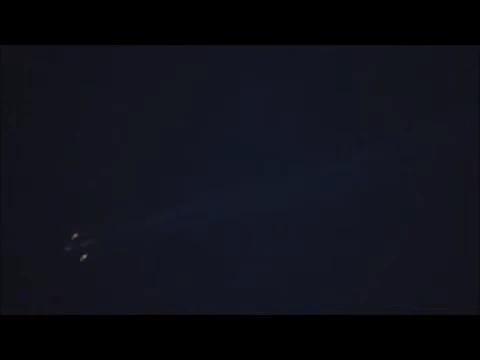Plane: (41, 221, 119, 269)
